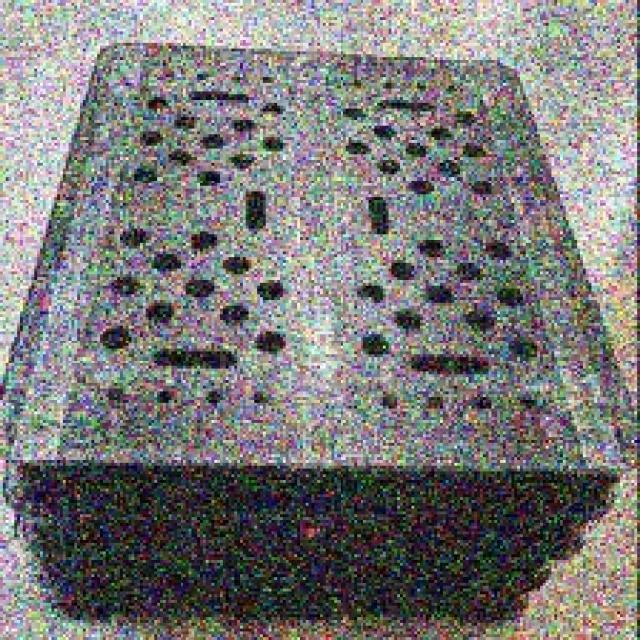igps: (0, 38, 640, 536)
